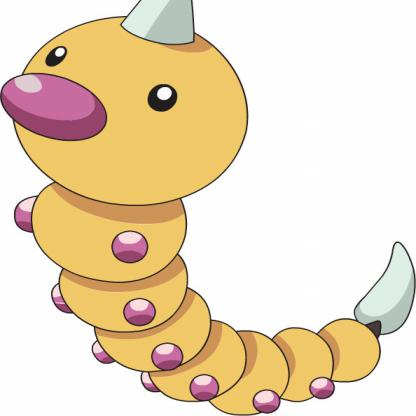Weedle: (8, 1, 416, 412)
